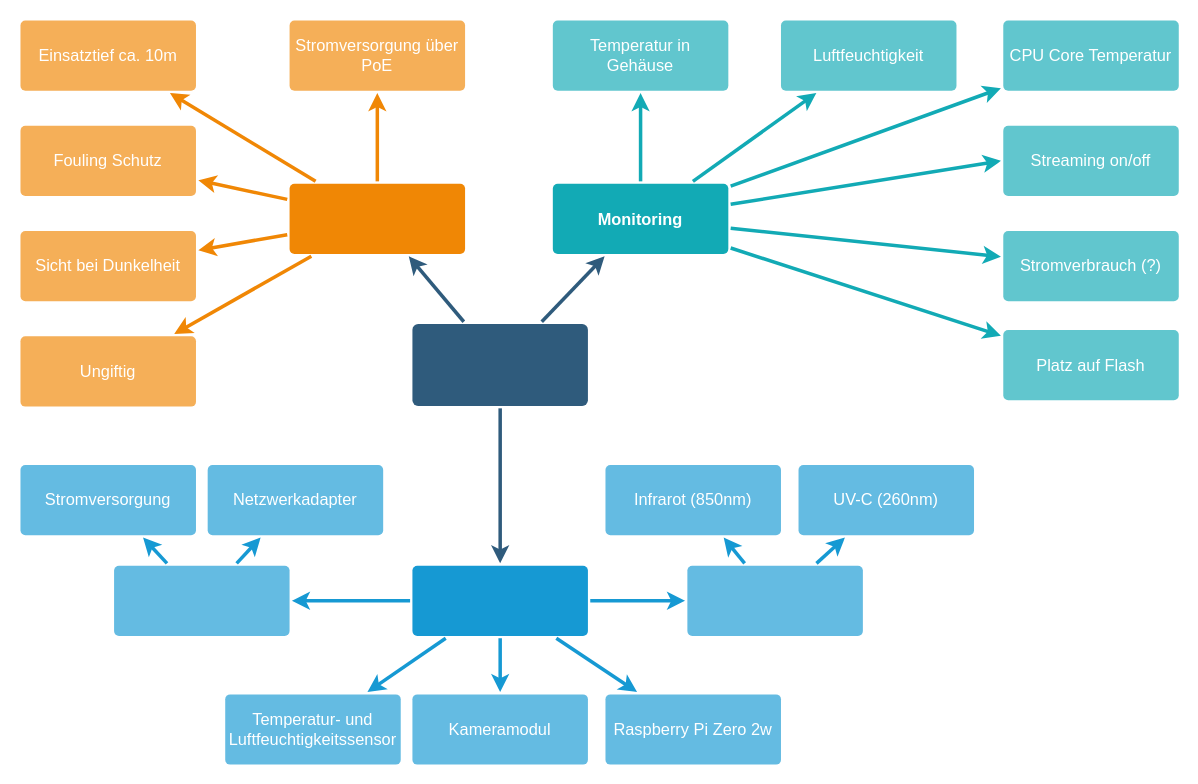
This 1198x784 diagram has some shape labels left out. Here are the shapes that lost their labels. From the top down, the box of each, then its label:
(289, 183, 464, 253): Anforderungen
(412, 324, 587, 405): Kamera
(113, 565, 289, 635): PoE Adapter
(412, 565, 587, 635): Tech. Komponenten
(687, 565, 862, 635): Beleuchtung
